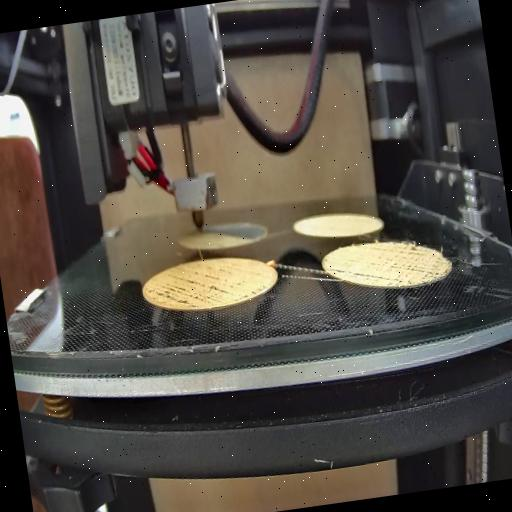under_extrusion: (145, 264, 270, 312), (372, 241, 446, 292), (326, 258, 374, 284)
